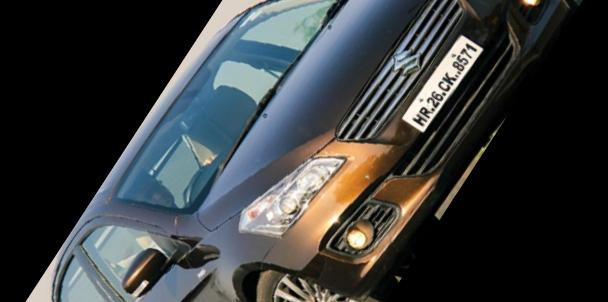plate: (383, 14, 503, 154)
